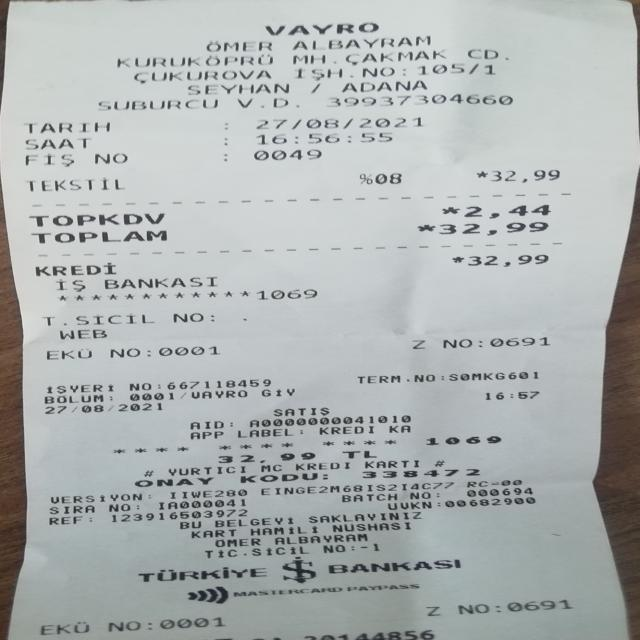text: (258, 481, 454, 495), (323, 94, 514, 106), (136, 567, 270, 583), (255, 116, 424, 128), (112, 54, 272, 66), (289, 36, 433, 49), (109, 509, 248, 522), (323, 560, 463, 572), (244, 416, 411, 426), (255, 132, 393, 144), (262, 22, 380, 36), (289, 52, 444, 62), (437, 222, 548, 235), (102, 277, 220, 289), (131, 71, 271, 81), (28, 214, 166, 224), (307, 512, 424, 523), (45, 313, 152, 325), (292, 66, 395, 78), (30, 232, 167, 241), (186, 83, 290, 94), (273, 533, 368, 545), (28, 178, 119, 190), (476, 169, 560, 182), (461, 205, 552, 217), (97, 99, 218, 108), (337, 80, 427, 92), (31, 263, 117, 275), (212, 452, 315, 462), (155, 498, 248, 509), (444, 497, 536, 508), (213, 516, 295, 528), (47, 494, 145, 504), (164, 379, 272, 388), (464, 255, 550, 266), (301, 632, 435, 639), (232, 588, 343, 596), (506, 599, 574, 612), (157, 616, 225, 629), (40, 404, 163, 411), (359, 470, 480, 477), (422, 434, 502, 444), (416, 64, 495, 74), (23, 138, 88, 150), (28, 122, 105, 132), (450, 372, 546, 380), (132, 478, 216, 487), (236, 474, 319, 483), (167, 489, 250, 498), (255, 288, 317, 300), (465, 486, 532, 497), (166, 466, 247, 475), (249, 526, 320, 536), (203, 40, 273, 50), (486, 336, 549, 347), (250, 149, 323, 158), (21, 154, 75, 166), (241, 547, 309, 556), (237, 97, 298, 107), (361, 459, 421, 469), (316, 425, 375, 435), (329, 523, 412, 530), (33, 622, 90, 632), (272, 406, 328, 416), (42, 394, 104, 403), (234, 428, 296, 437), (46, 384, 114, 392), (292, 462, 352, 471), (126, 391, 179, 401), (189, 389, 247, 398), (56, 329, 108, 339), (212, 538, 264, 548), (42, 349, 92, 359), (348, 584, 419, 591), (156, 346, 218, 354), (90, 152, 128, 165), (466, 48, 500, 62), (51, 278, 85, 292), (186, 529, 238, 538), (483, 391, 539, 399), (358, 374, 400, 384), (338, 494, 398, 501), (102, 620, 144, 630), (45, 505, 97, 513), (386, 500, 432, 509), (339, 448, 376, 459), (186, 430, 226, 440), (440, 337, 473, 349), (187, 419, 224, 429), (372, 172, 402, 184), (170, 312, 205, 322), (452, 603, 487, 613), (204, 548, 238, 558), (44, 516, 84, 524), (107, 347, 138, 357), (260, 388, 298, 396), (318, 544, 347, 554), (385, 423, 411, 434), (416, 222, 436, 236), (440, 206, 461, 219), (411, 373, 438, 383), (104, 502, 130, 512), (406, 490, 432, 500), (174, 520, 202, 529), (409, 338, 427, 351), (420, 605, 443, 615), (450, 255, 466, 268), (461, 480, 487, 488), (360, 542, 378, 553), (392, 64, 407, 77), (357, 172, 372, 185), (126, 383, 152, 390), (140, 467, 155, 478), (431, 457, 446, 468), (139, 618, 154, 629), (308, 81, 321, 93), (499, 480, 525, 486), (208, 311, 222, 322), (487, 602, 501, 612), (435, 372, 448, 382), (140, 346, 152, 356), (81, 514, 93, 524), (433, 499, 446, 508), (130, 502, 140, 512), (320, 471, 329, 482), (476, 336, 483, 349), (347, 542, 355, 553), (227, 418, 234, 429), (434, 490, 441, 500), (155, 380, 161, 391), (106, 392, 112, 403), (222, 137, 230, 145), (221, 151, 227, 161), (223, 122, 229, 129)
